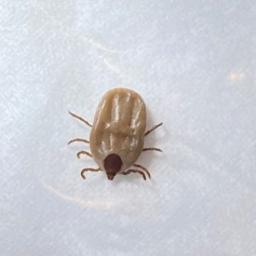Rhipicephalus sanguineus: (66, 87, 164, 182)
